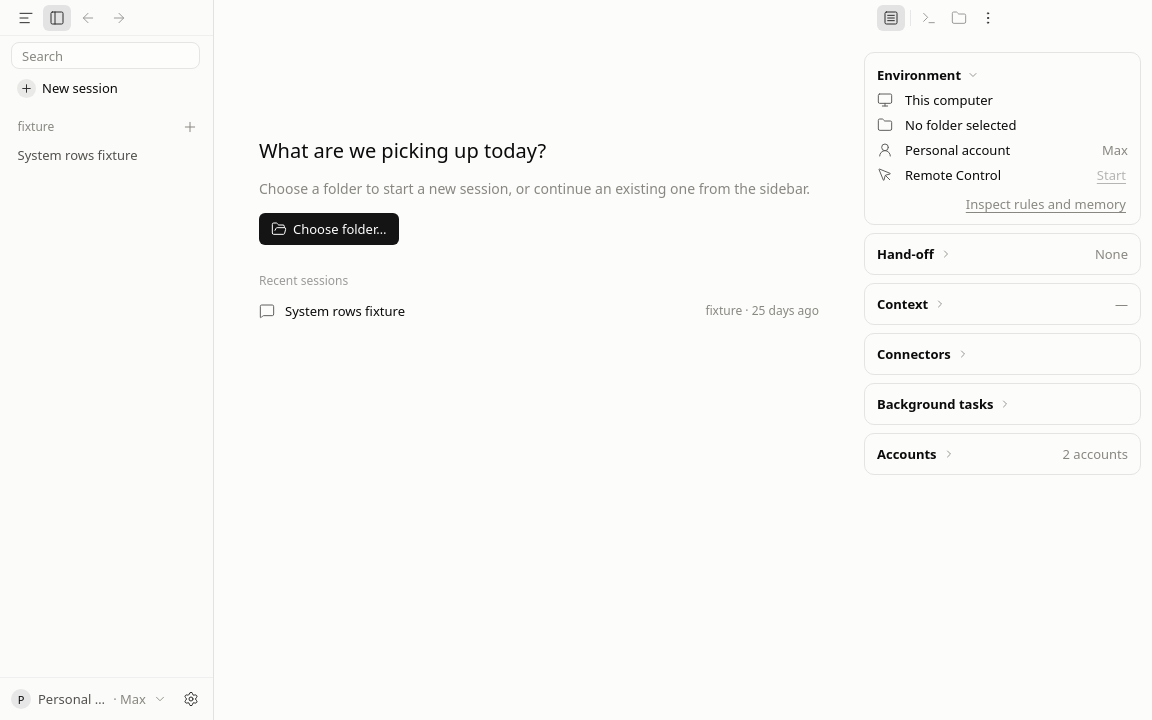
Scenario: system rows › folds background tasks into the activity line; expanded, each is one truncated line with the whole line in its tooltip
Click the button "System rows fixture" at (106, 155), box top-left (7, 141), bottom-right (206, 169)
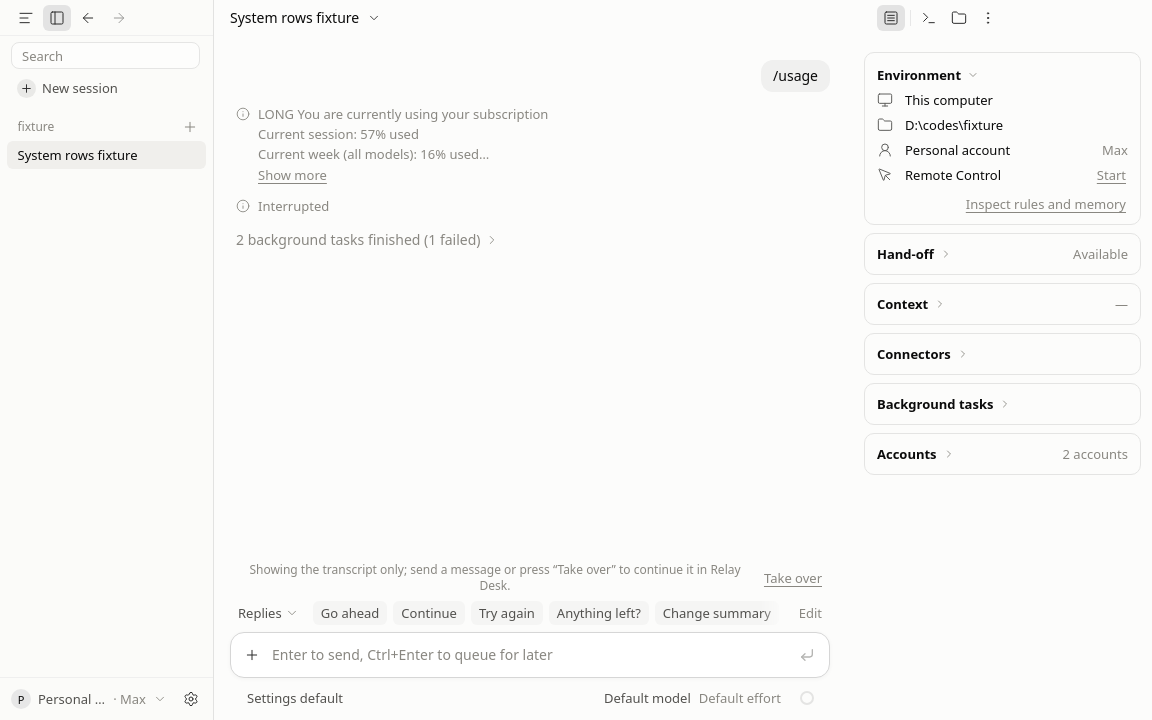
Click the button "2 background tasks finished (1 failed)" at (367, 240), box top-left (230, 228), bottom-right (504, 252)
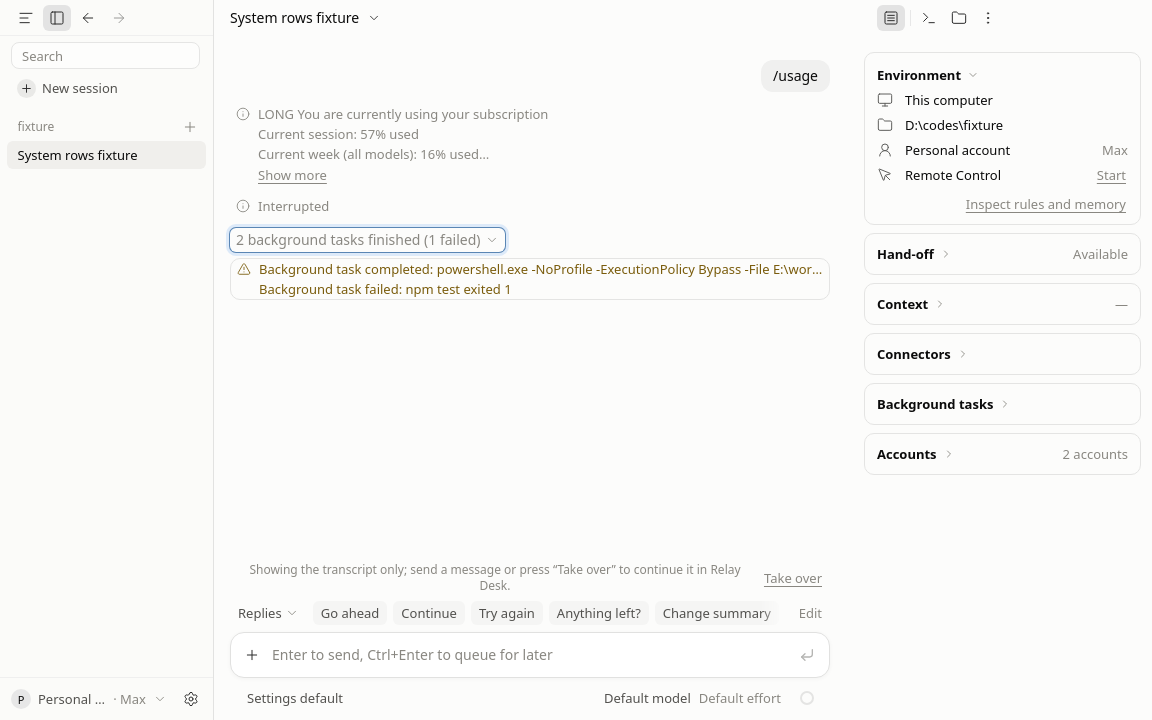
Expected: the number of elements with test id "task-note-row" is 1, top-left (231, 259), bottom-right (829, 299)
